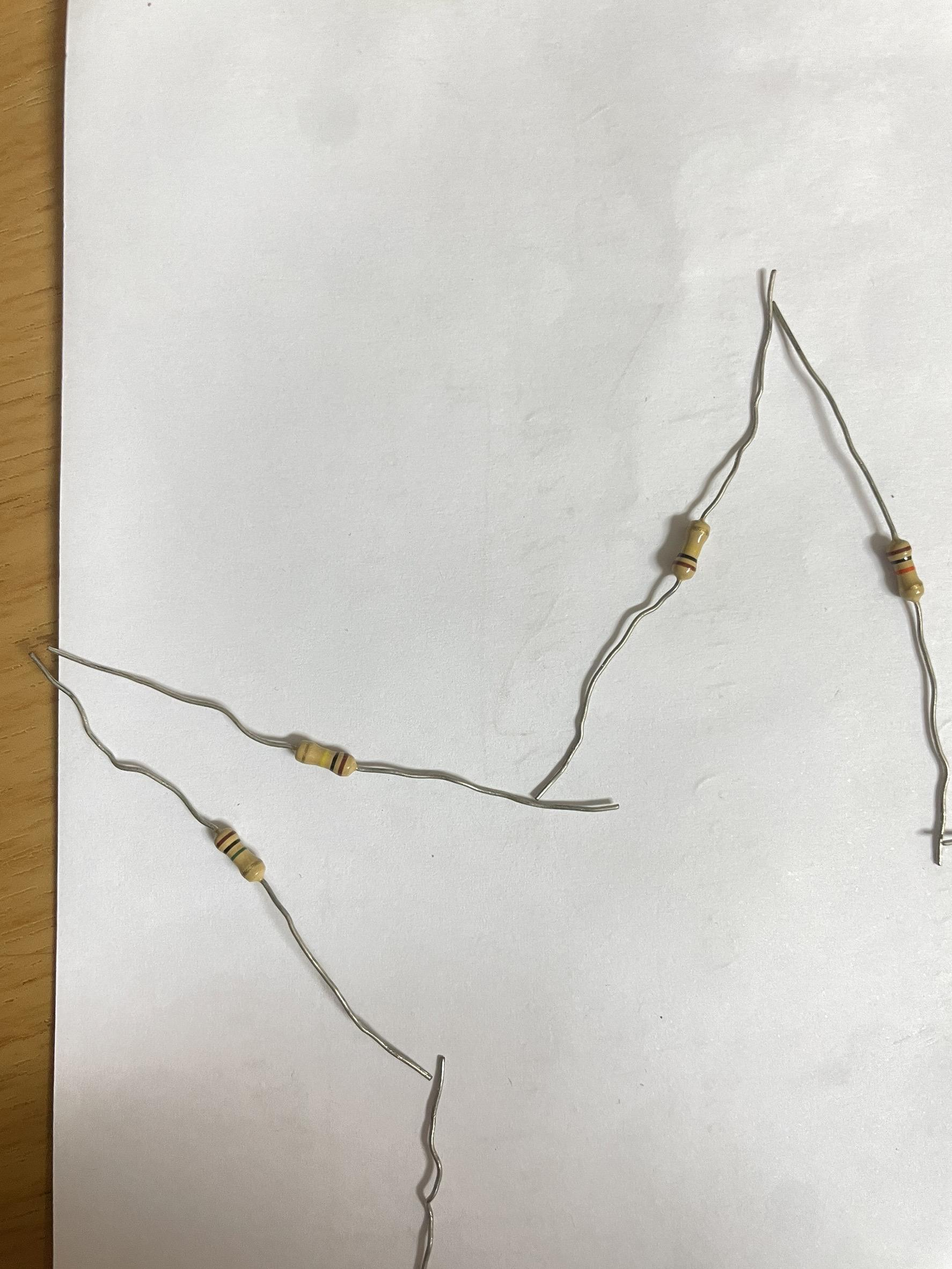resistor: (211, 824, 270, 886), (288, 736, 361, 781), (668, 516, 714, 586), (883, 537, 928, 607)
